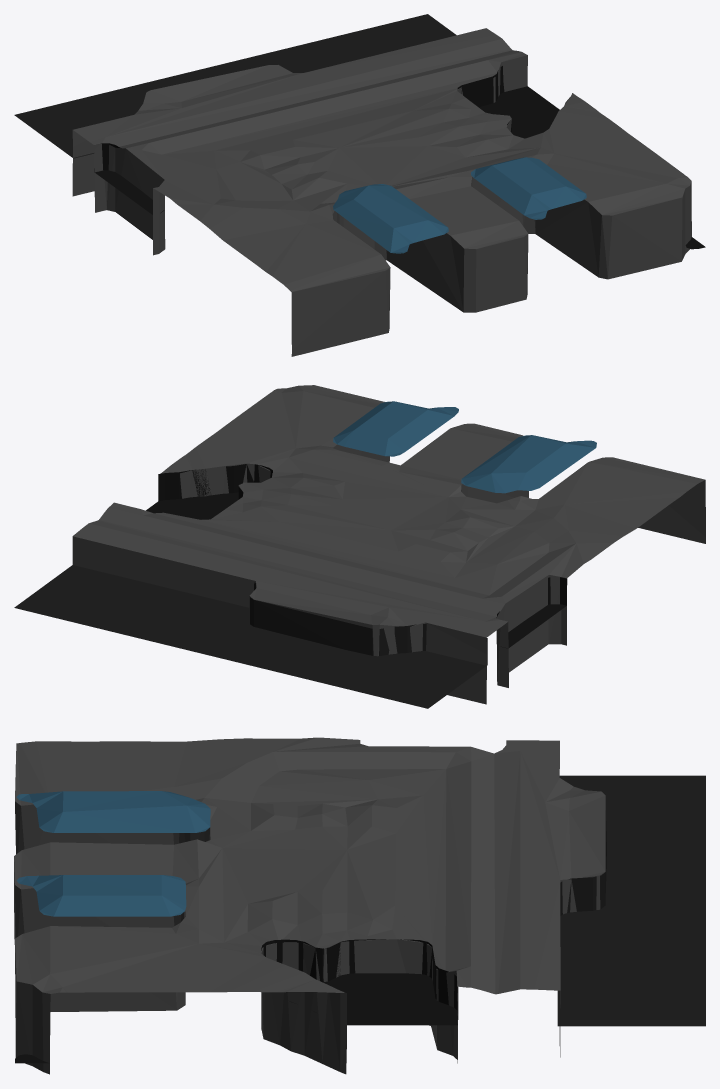
Rendered from newsho-79.glb.
The picture shows the model from 3 angles, top to bottom: view 1: azimuth 30°, elevation 25°; view 2: azimuth 150°, elevation 25°; view 3: azimuth 270°, elevation 25°; orthographic projection. The views are drawn at different scales.
Parts seen in each view (by area): view 1: newsho-79; view 2: newsho-79; view 3: newsho-79.
Boxes of the visible parts, bbox=[...] form: newsho-79: bbox=[14, 14, 705, 356]; newsho-79: bbox=[14, 385, 705, 708]; newsho-79: bbox=[14, 737, 705, 1074].
Bounding box in the file's own units: 2 × 0.395 × 2.33.
